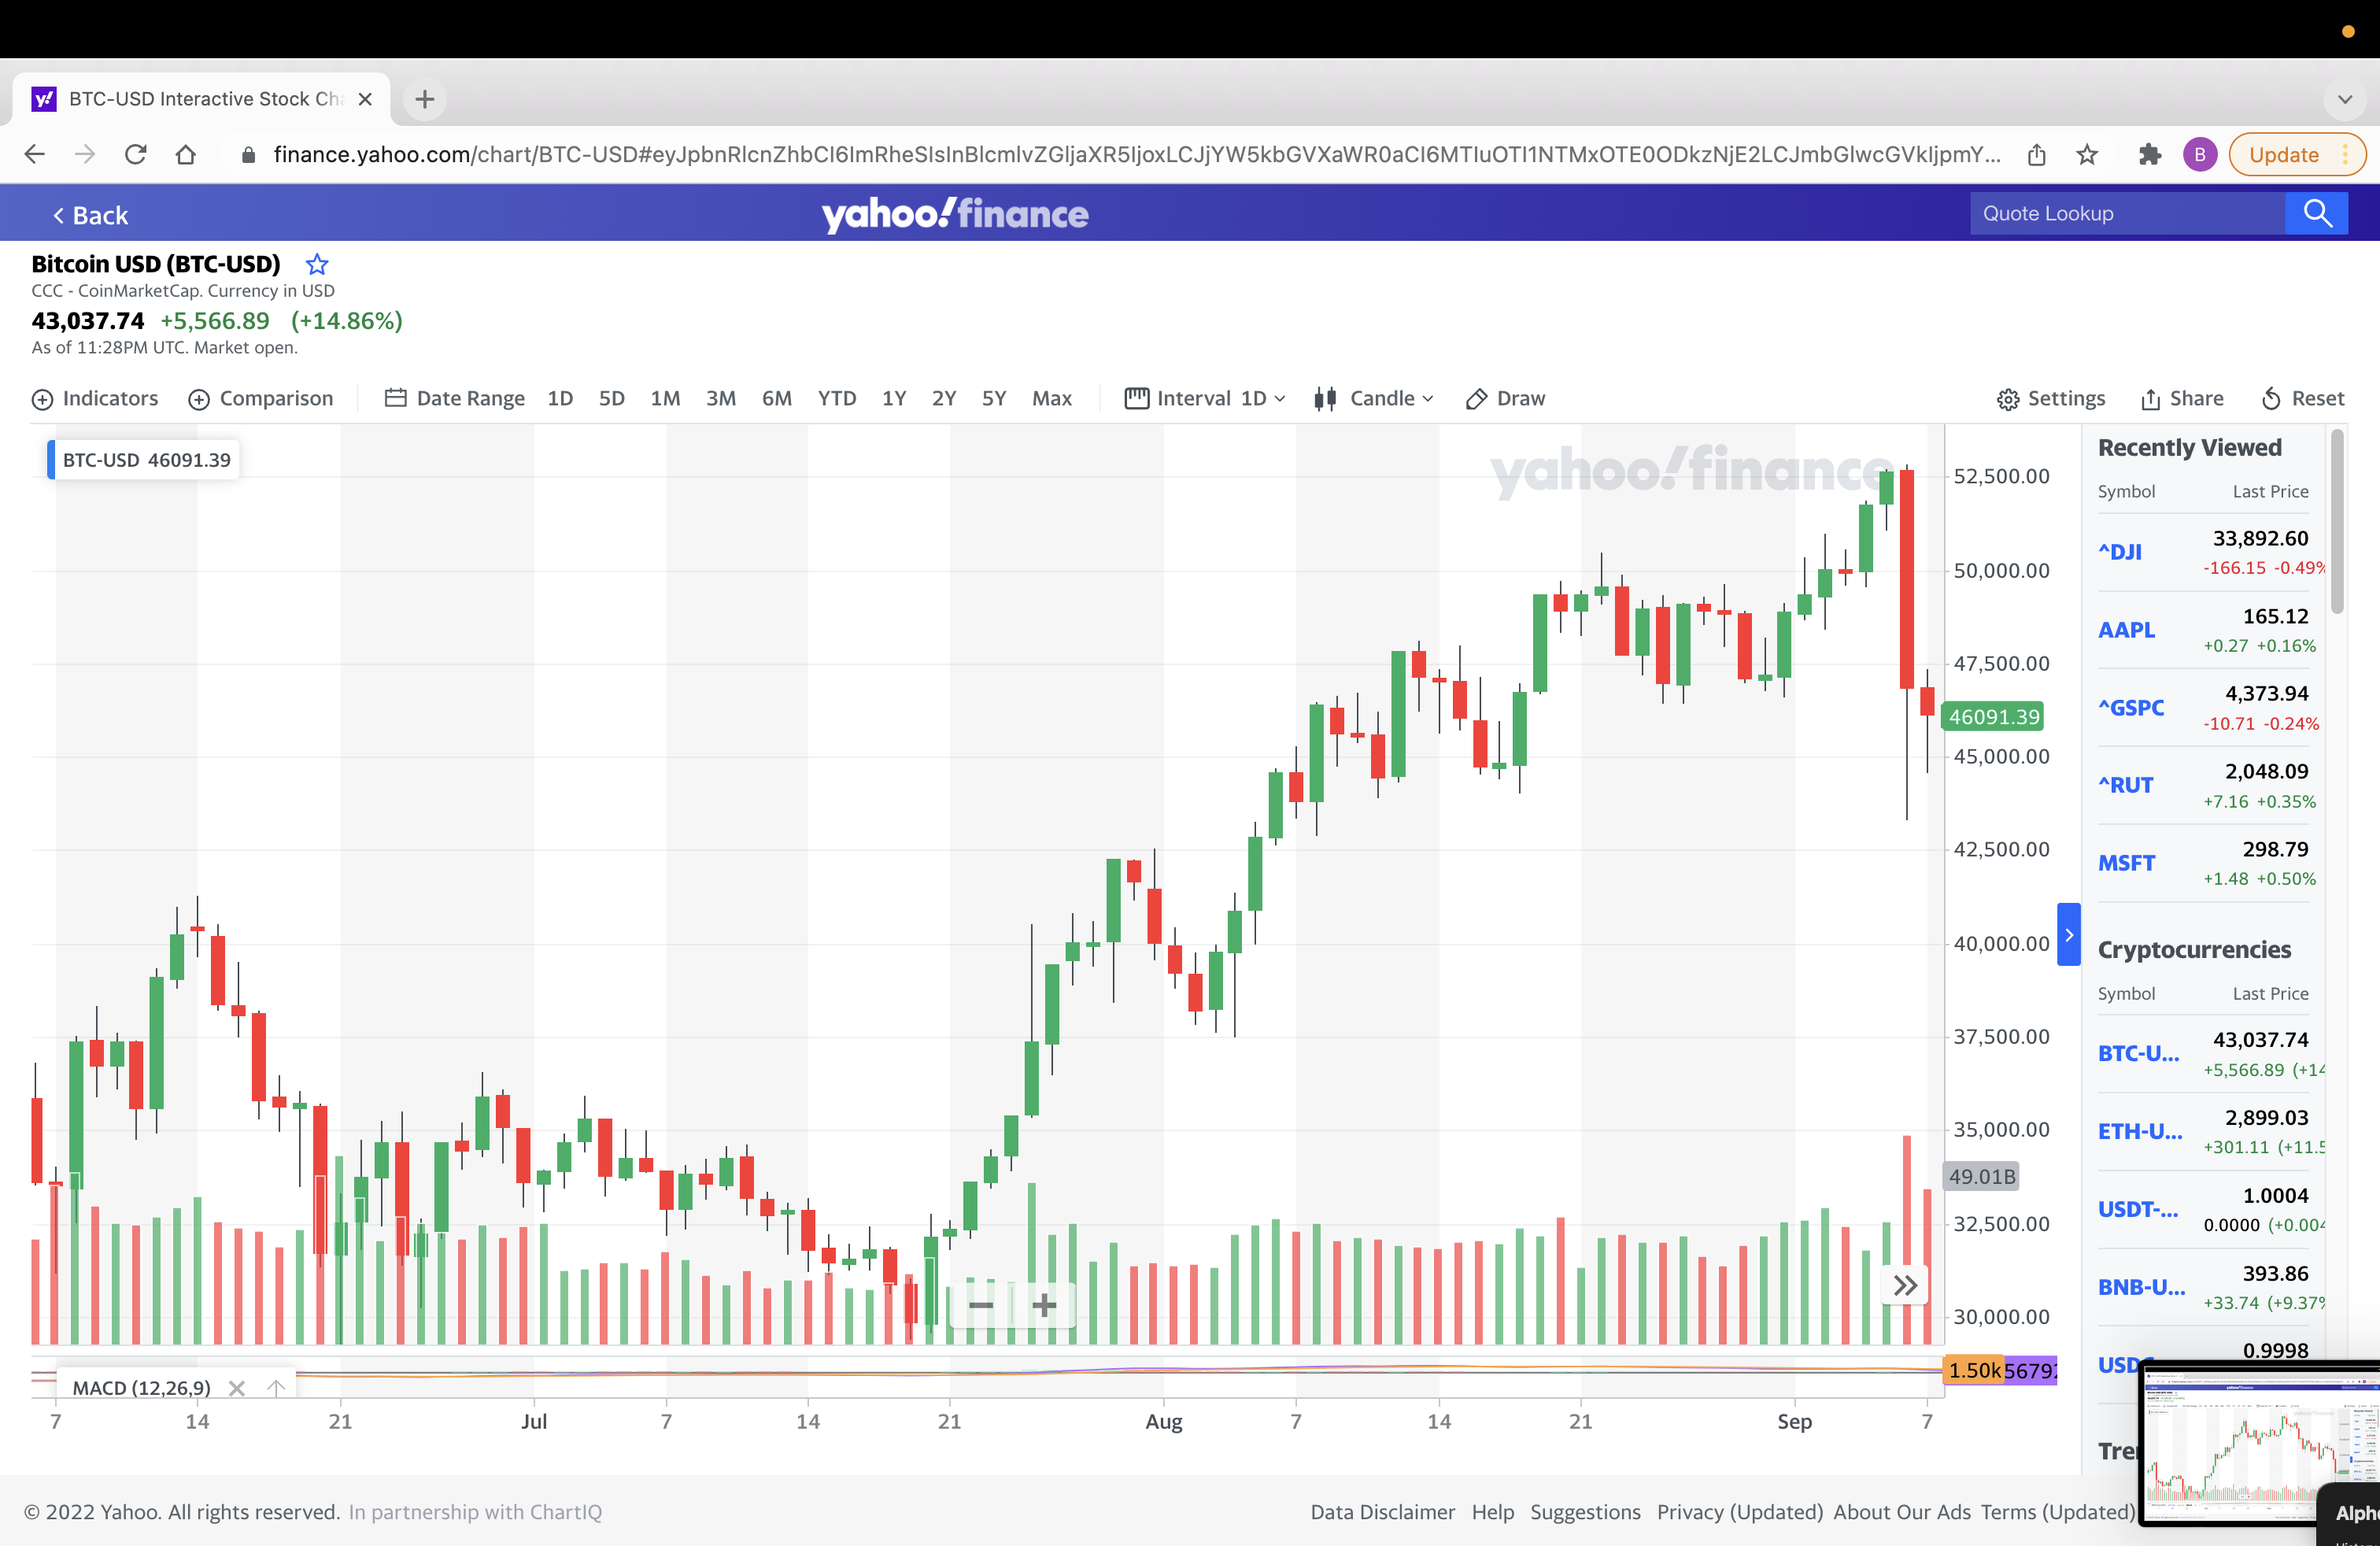Three Black Crows: (172, 307, 238, 521)
Three White Soldiers: (1197, 361, 1256, 642), (989, 311, 1053, 536), (1174, 383, 1237, 613), (1745, 751, 1806, 932), (928, 229, 991, 366)
